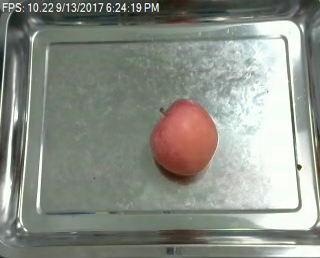Apple: (145, 98, 221, 181)
